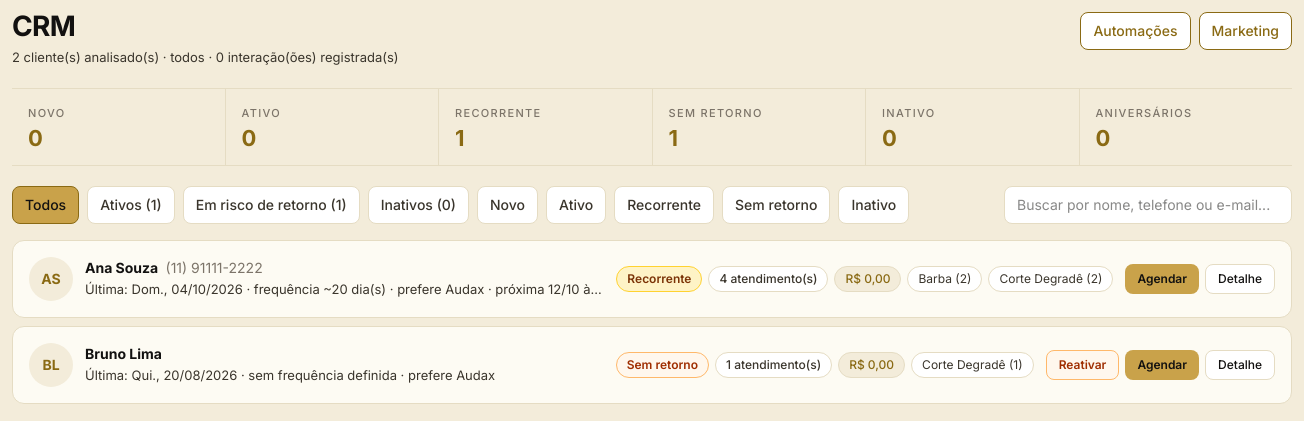
CRM — segmentação com dados reais › filtro por segmento mostra apenas o segmento escolhido
Click the button "Sem retorno": (776,205) [722,186,830,224]
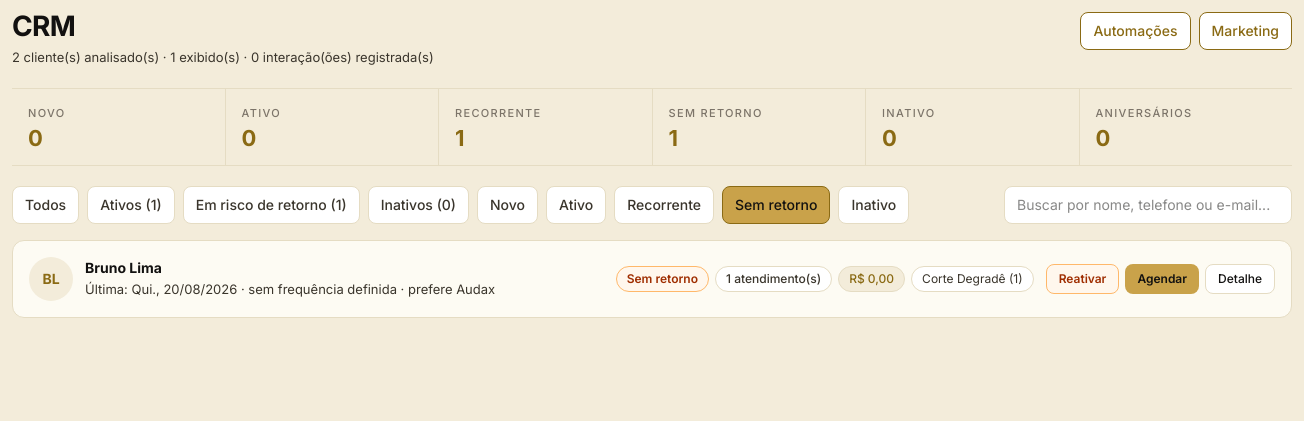
Check: the text "Bruno Lima" is shown, box [85,259,162,276]
Check: the text "Ana Souza" is gone
Click the button "Todos": (46,205) [12,186,79,224]
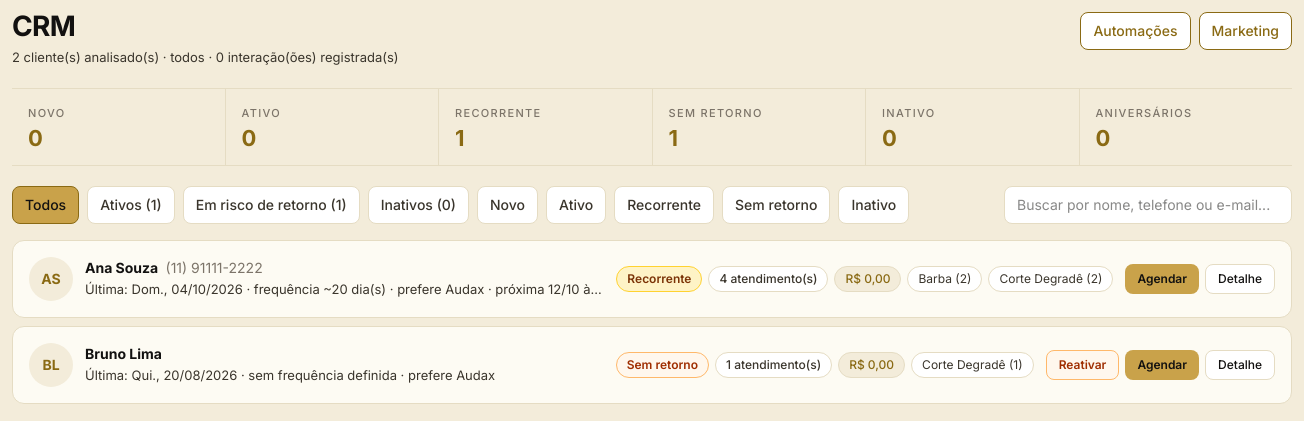
Check: the text "Ana Souza" is shown, box [85,259,158,276]
